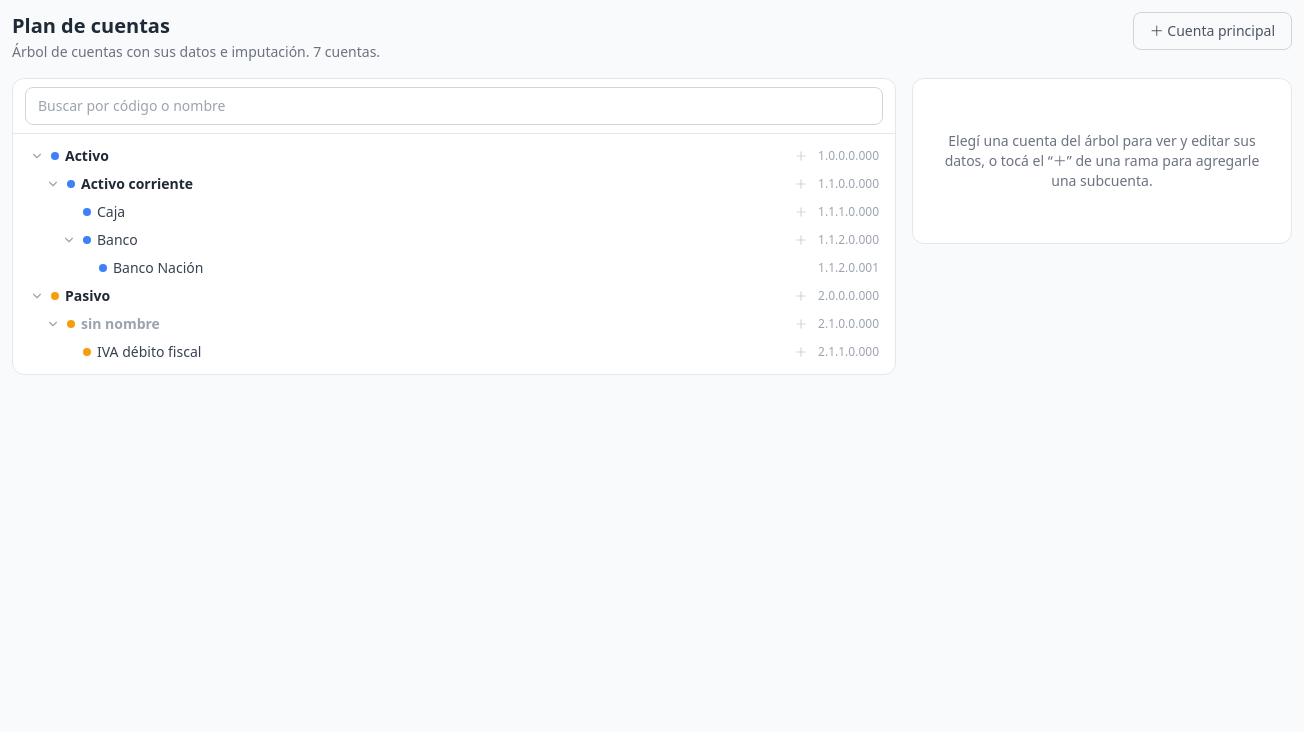
Test: Plan de cuentas › al elegir una cuenta muestra sus datos a la derecha
Click the text "Caja" at (111, 212), box [97,202,125,222]
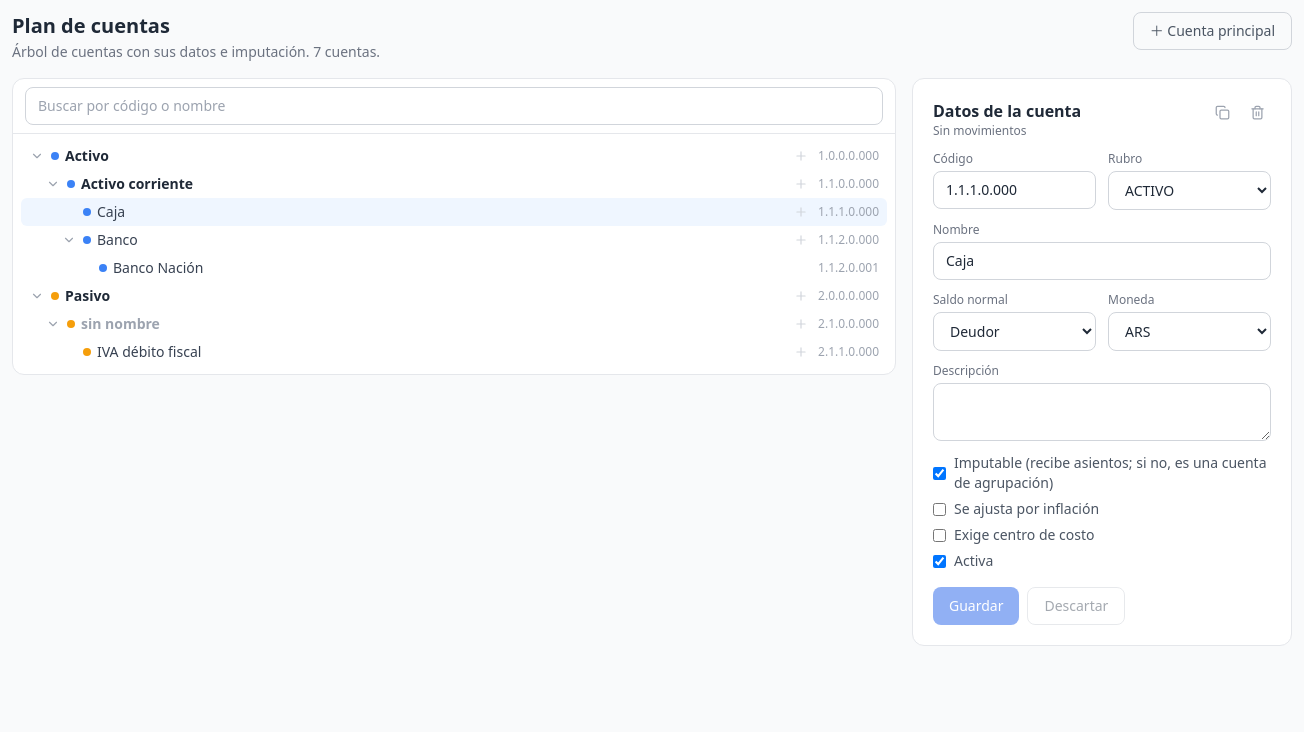
expect the heading "Datos de la cuenta" is shown: met, box [933,99,1081,123]
expect the field labelled "Nombre" holds "Caja": met, box [933,242,1271,280]
expect the field labelled "Código" holds "1.1.1.0.000": met, box [933,171,1096,209]
